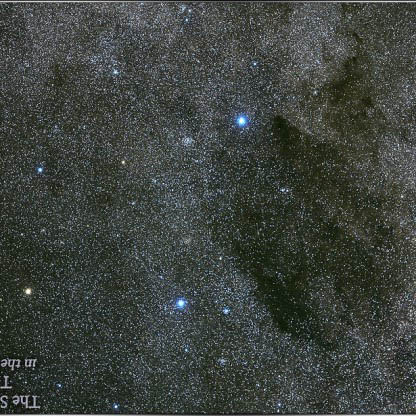Southern Cross: (170, 288, 203, 320), (227, 107, 259, 133), (31, 155, 60, 181), (14, 277, 40, 305)
